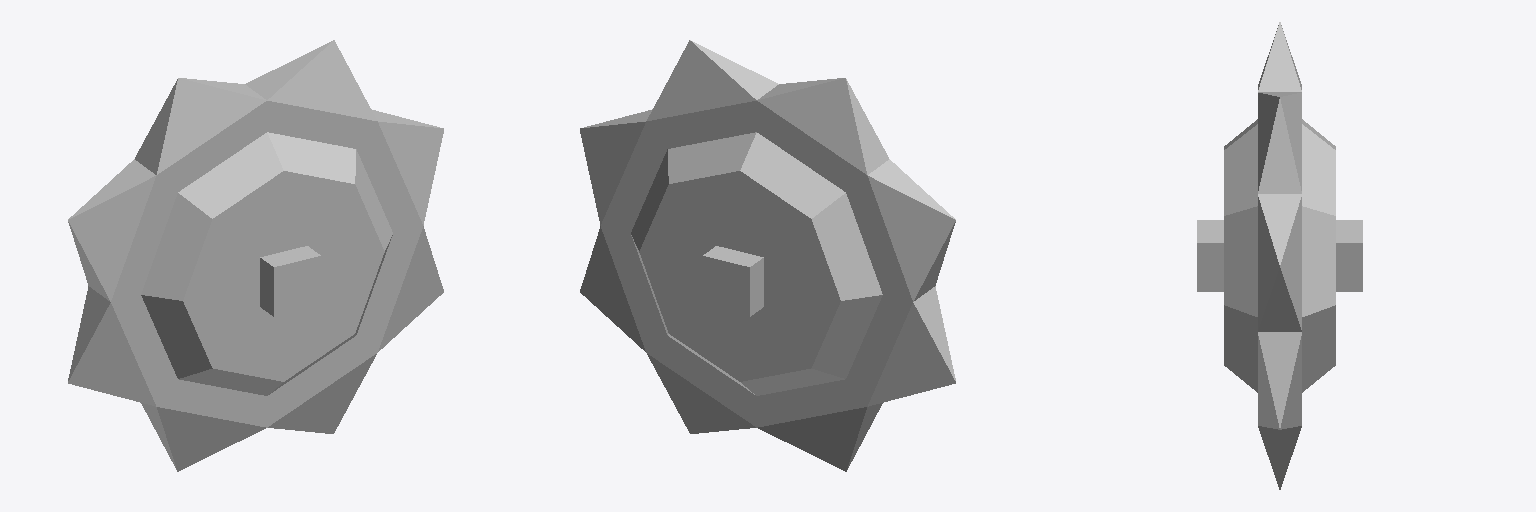
The model's file is saw.obj.
3 renders of one model, left to right at view 1: azimuth 30°, elevation 25°; view 2: azimuth 150°, elevation 25°; view 3: azimuth 270°, elevation 25°, orthographic.
Parts seen in each view (by area): view 1: mesh_0; view 2: mesh_0; view 3: mesh_0.
Part boxes in pixels (x1,y1,x2,y2): mesh_0: (68, 40, 443, 471); mesh_0: (580, 40, 955, 471); mesh_0: (1197, 22, 1362, 489).
Bounding box in the file's own units: 7.94 × 7.94 × 3.03.